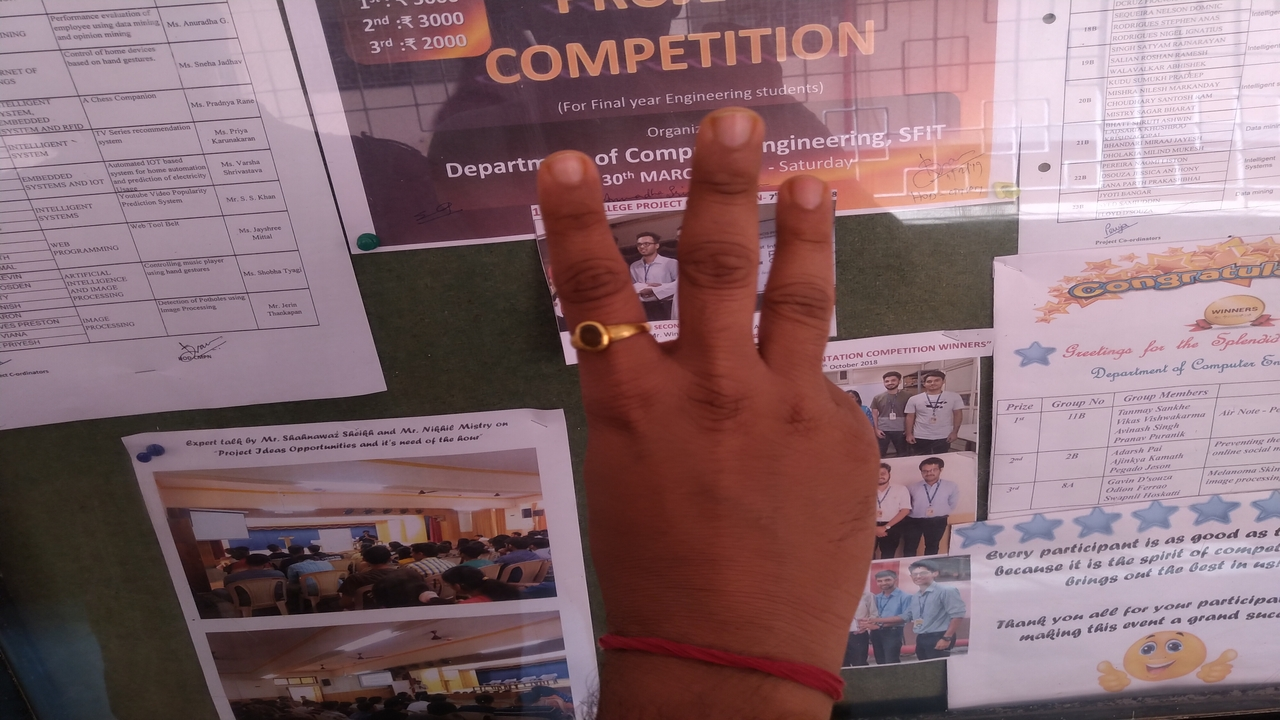fingertip: (538, 142, 604, 204), (776, 168, 840, 230), (698, 106, 762, 166)
